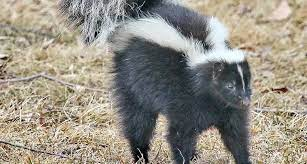skunk: (63, 1, 257, 162)
